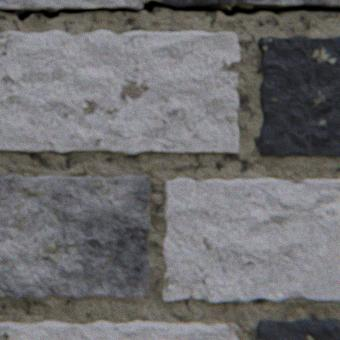brick: (0, 30, 239, 153), (162, 177, 339, 301), (0, 173, 149, 298), (256, 35, 339, 156), (0, 319, 236, 339), (254, 317, 339, 339), (0, 0, 142, 10), (162, 0, 339, 6)
crack: (0, 0, 339, 22)
